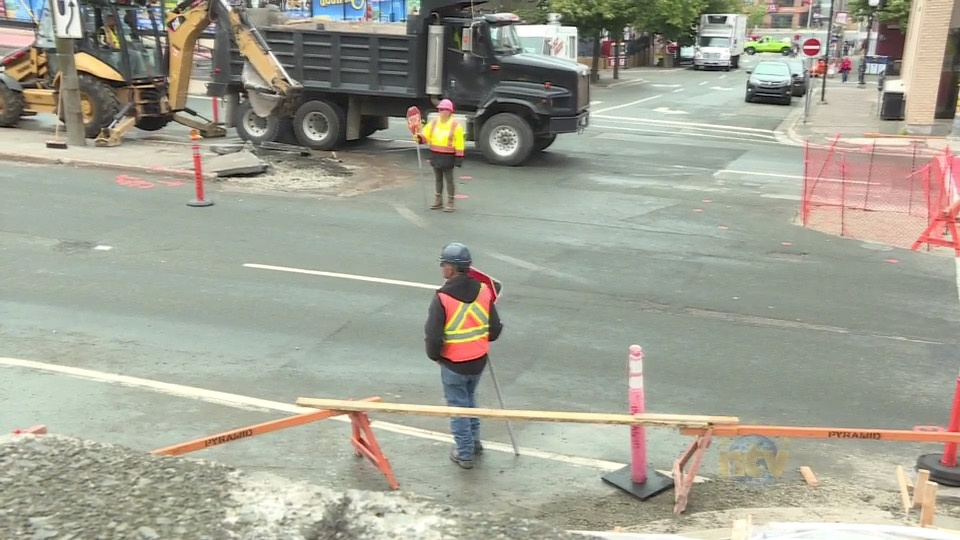blue: (438, 242, 472, 279)
red: (436, 97, 453, 119)
